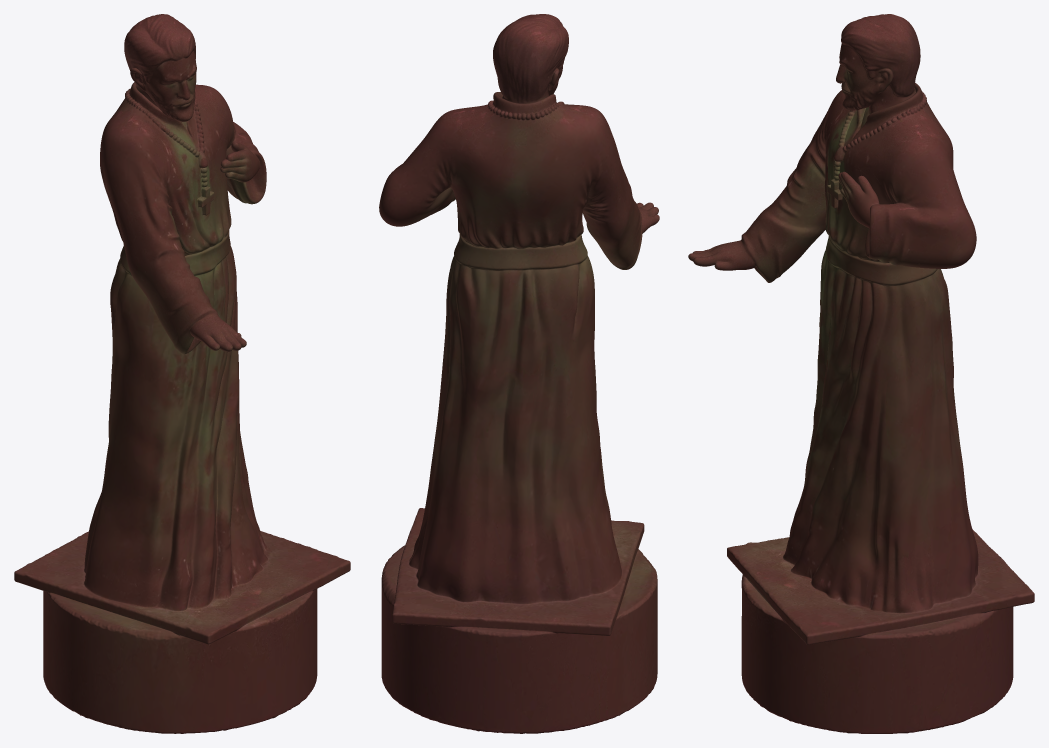
The model's file is San Roque Gonzalez de Santa Cruz.glb.
3 views of the same model, side by side, from view 1: azimuth 30°, elevation 25°; view 2: azimuth 150°, elevation 25°; view 3: azimuth 270°, elevation 25° (orthographic).
Bounding box in the file's own units: 0.795 × 1.9 × 0.9142.
Materials: 1 (1 with a texture image).
